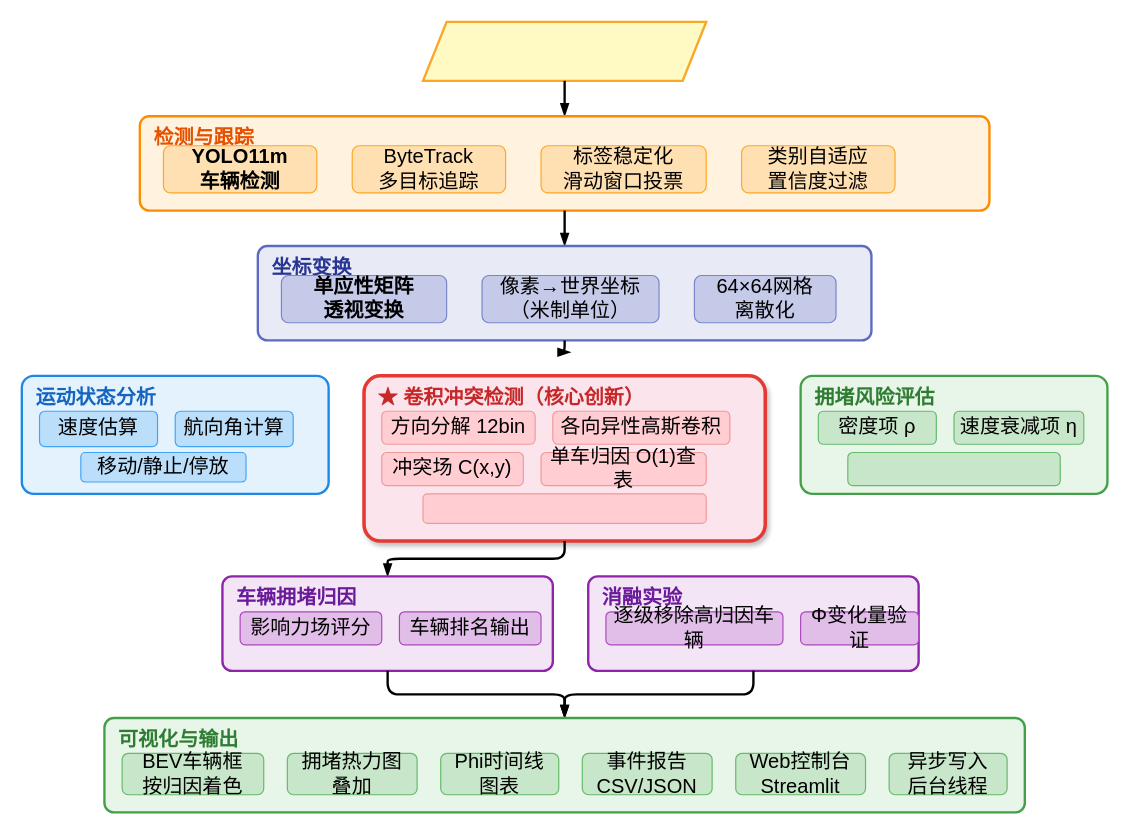
This 1128x833 diagram has some shape labels left out. Here are the shapes that lost their labels. From the top down, the centre of each, then its label:
At [564,50]: "交叉口监控视频输入".
At [953,468]: "Phi = wρ·ρ + wv·η".
At [564,508]: "12对冲突方向（对向6+正交6）".
